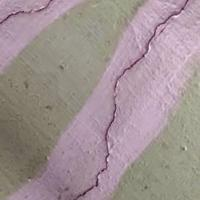crack: (60, 0, 191, 199)
